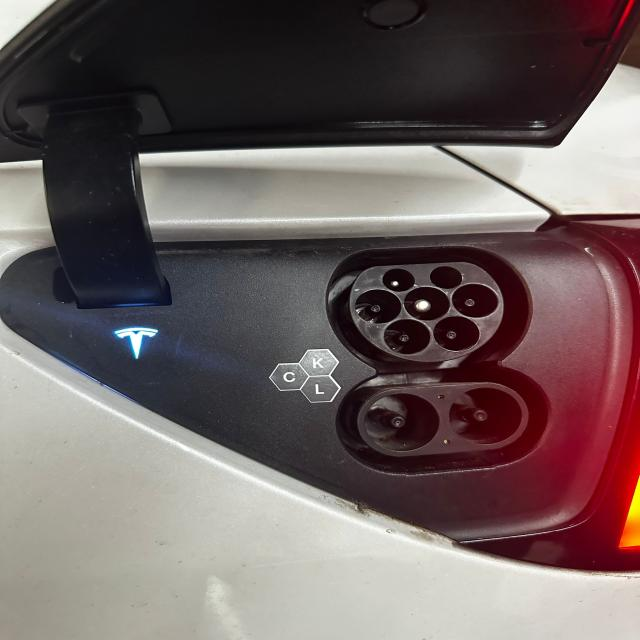inlet: (350, 262, 504, 362)
inlet-above-left: (382, 269, 415, 292)
inlet-above-right: (430, 266, 462, 289)
inlet-below-left: (384, 319, 430, 355)
inlet-below-right: (433, 316, 480, 351)
inlet-circle: (404, 286, 451, 321)
inlet-circle-left: (355, 289, 402, 324)
inlet-circle-right: (451, 283, 499, 318)
inlet-minus: (449, 387, 522, 445)
inlet-plus: (364, 393, 439, 451)
